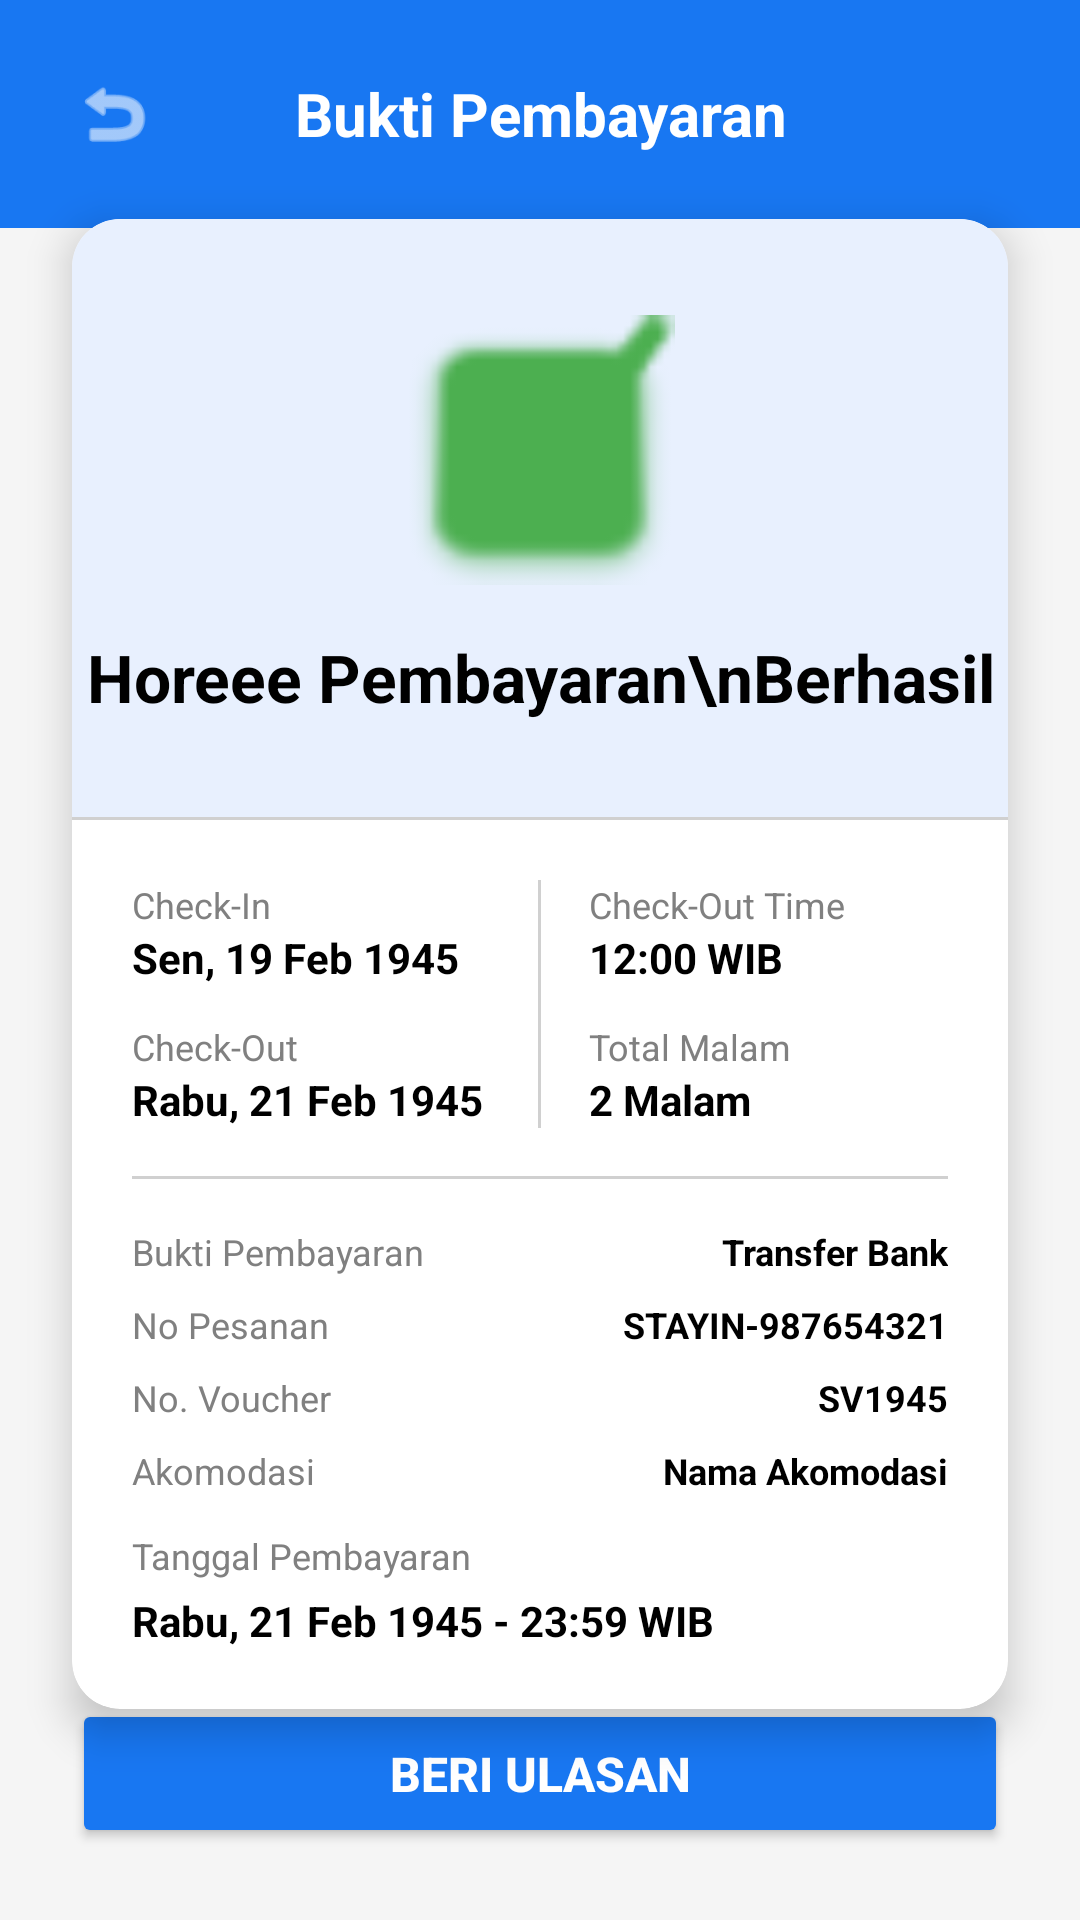

Icons on this 1080px×1920px Android screen, each with the point to tap as [x,y]:
revert: [115,114]
